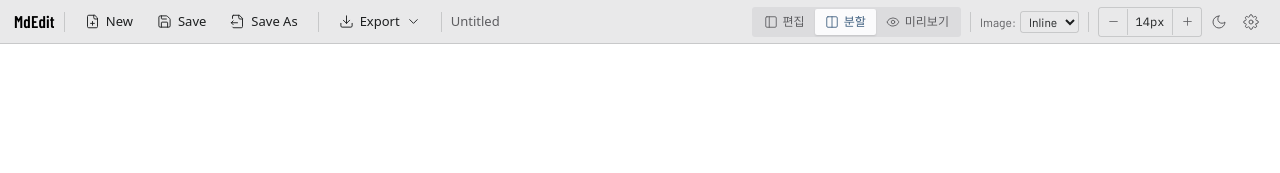
Header: Export dropdown (REQ-EXPORT-011, REQ-EXPORT-012) › shows export format menu on Export button click (REQ-EXPORT-011)
Click the button labelled "Export".
click(380, 22)  # box [328, 6, 432, 36]
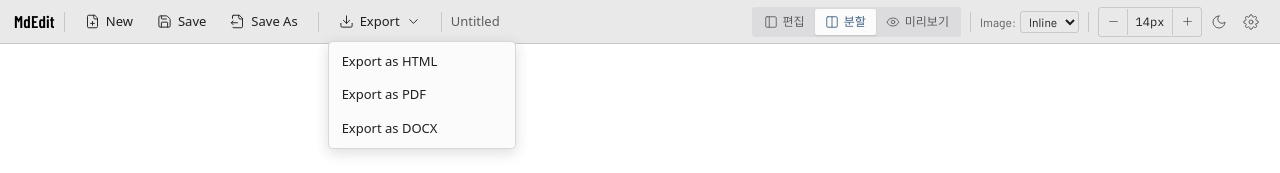
Expected: the menu item "Export as HTML" is shown, [332, 44, 512, 78]
Expected: the menu item "Export as PDF" is shown, [332, 78, 512, 112]
Expected: the menu item "Export as DOCX" is shown, [332, 112, 512, 145]
